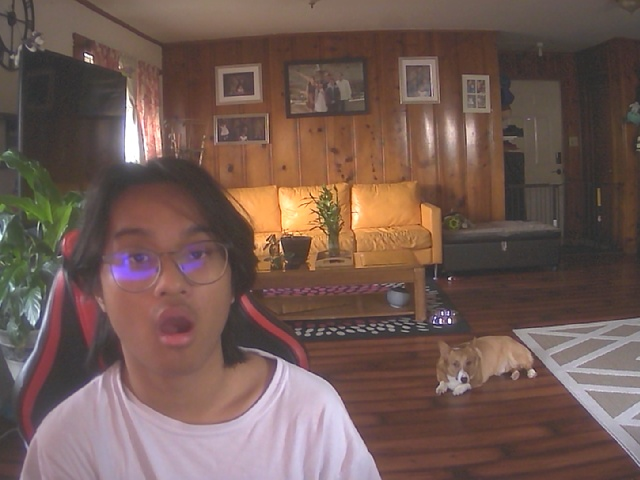fear: (85, 167, 244, 377)
